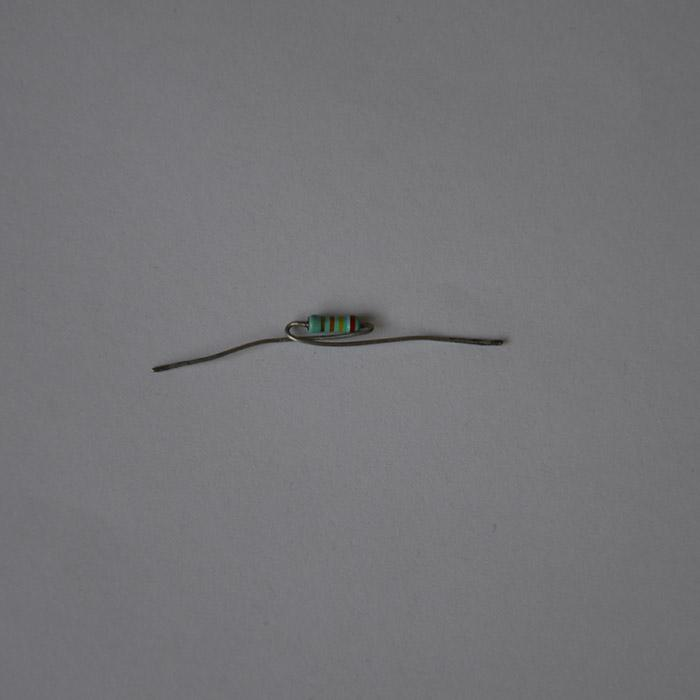resistor: (306, 314, 359, 333)
